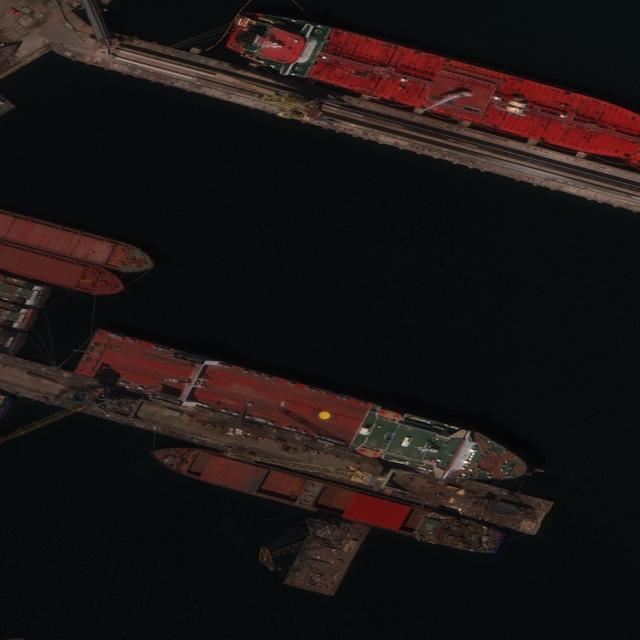Cargo: (226, 10, 639, 168)
Container Ship: (74, 324, 542, 499), (146, 438, 506, 557), (1, 209, 153, 275), (1, 244, 125, 297), (1, 275, 50, 307), (1, 301, 43, 330), (1, 328, 41, 356)
